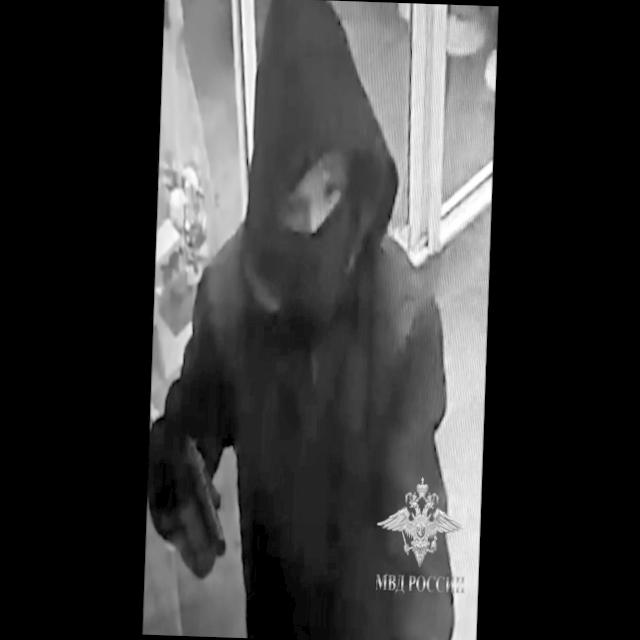gun: (174, 420, 230, 571)
person with a gun: (144, 0, 458, 640)
